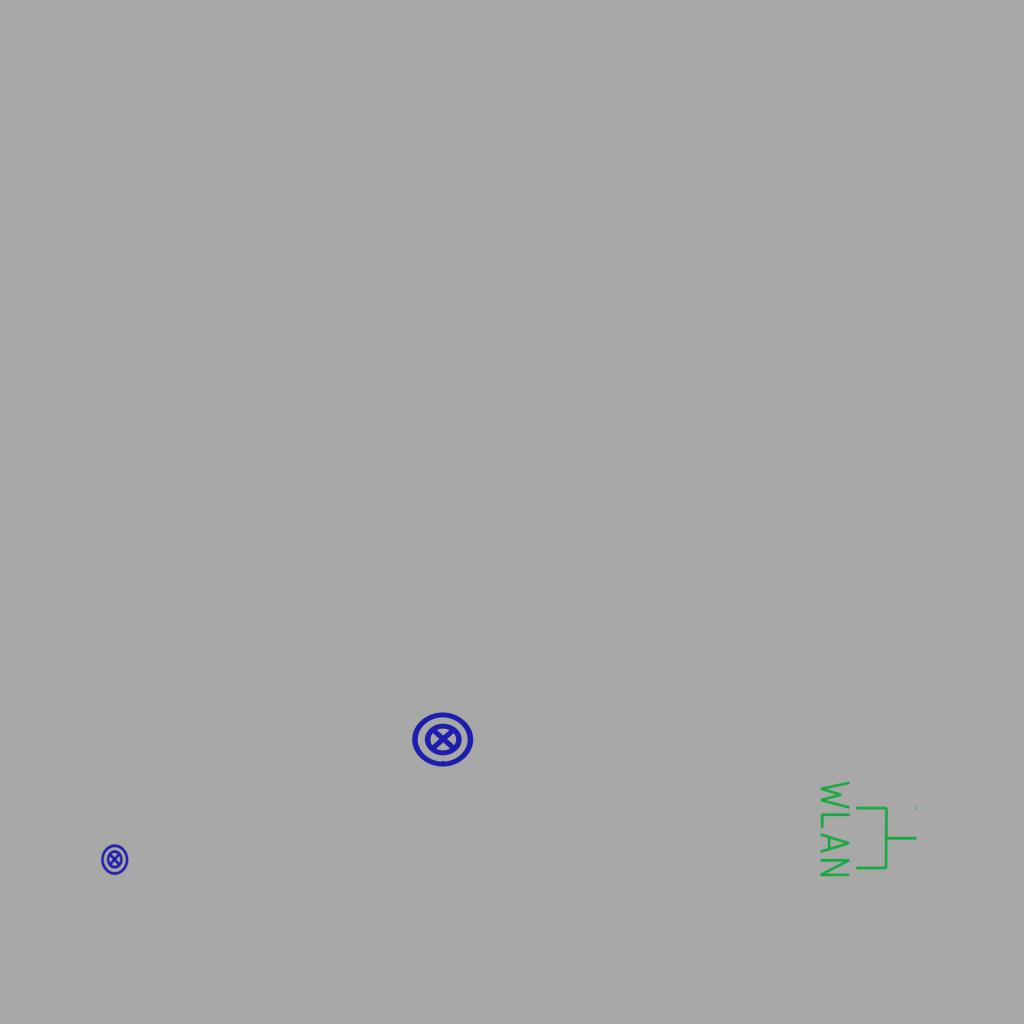Taster_beleuchtet: (410, 706, 476, 772), (98, 843, 131, 876)
WLAN: (816, 776, 920, 881)
